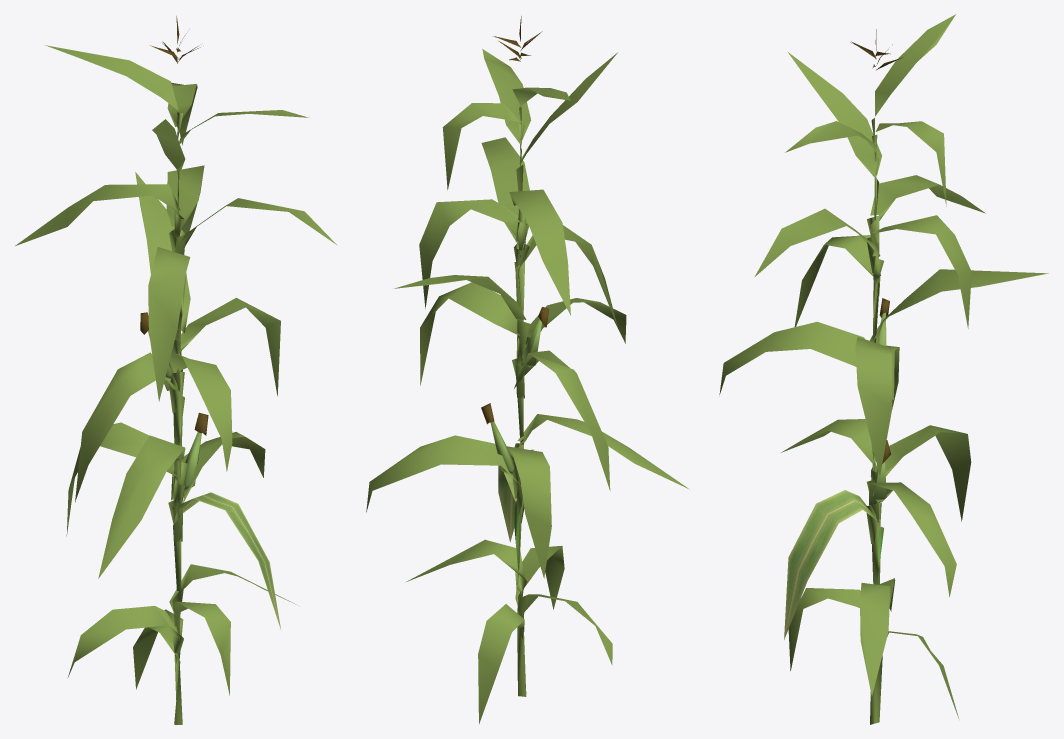
File: corn-low.glb
The picture shows the model from 3 angles, left to right: view 1: azimuth 30°, elevation 25°; view 2: azimuth 150°, elevation 25°; view 3: azimuth 270°, elevation 25°; orthographic projection. The views are drawn at different scales.
Visible parts, largest first — view 1: Plane.012; view 2: Plane.012; view 3: Plane.012.
Part boxes in pixels (x1=…): Plane.012: x1=15, y1=16, x2=337, y2=724; Plane.012: x1=366, y1=16, x2=689, y2=723; Plane.012: x1=719, y1=14, x2=1048, y2=724.
Size of the model in its own units: 0.4582 by 1.24 by 0.5261.
3 materials, 3 textured.
